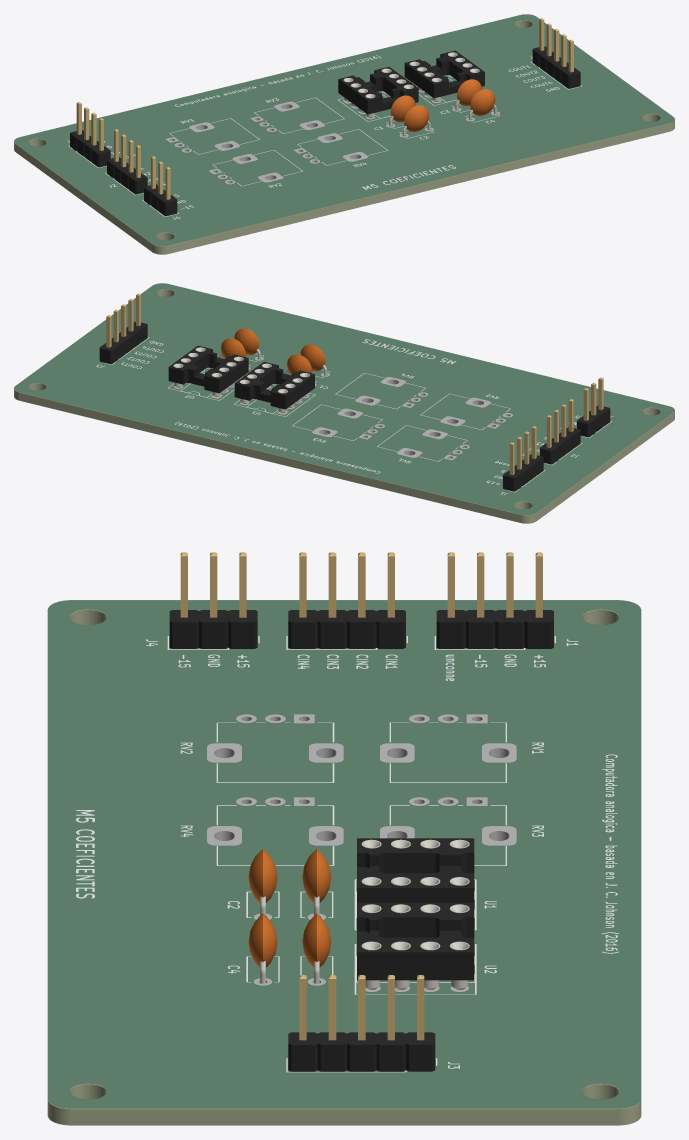
The model's file is placa.glb.
3 renders of one model, top to bottom at view 1: azimuth 30°, elevation 25°; view 2: azimuth 150°, elevation 25°; view 3: azimuth 270°, elevation 25°, orthographic. The views are drawn at different scales.
Visible parts, largest first — view 1: =>[0:1:1:16], =>[0:1:1:14], =>[0:1:1:7] (×2), =>[0:1:1:11] (×2), =>[0:1:1:12], =>[0:1:1:9] (×4), =>[0:1:1:13], =>[0:1:1:5], =>[0:1:1:3], =>[0:1:1:15]; view 2: =>[0:1:1:16], =>[0:1:1:14], =>[0:1:1:7] (×2), =>[0:1:1:11] (×2), =>[0:1:1:12], =>[0:1:1:13], =>[0:1:1:5], =>[0:1:1:9] (×4), =>[0:1:1:3], =>[0:1:1:15]; view 3: =>[0:1:1:16], =>[0:1:1:14], =>[0:1:1:7] (×2), =>[0:1:1:11] (×2), =>[0:1:1:5], =>[0:1:1:12], =>[0:1:1:13], =>[0:1:1:9] (×4), =>[0:1:1:3].
Part boxes in pixels (box(x1,y1,x2,y2)): =>[0:1:1:16]: box(14, 15, 674, 254); =>[0:1:1:14]: box(14, 14, 674, 246); =>[0:1:1:7] (×2): box(338, 50, 484, 118); =>[0:1:1:11] (×2): box(70, 102, 147, 194); =>[0:1:1:12]: box(165, 75, 499, 184); =>[0:1:1:9] (×4): box(389, 79, 496, 136); =>[0:1:1:13]: box(68, 55, 582, 219); =>[0:1:1:5]: box(532, 18, 580, 88); =>[0:1:1:3]: box(144, 156, 177, 215); =>[0:1:1:15]: box(16, 129, 673, 254); =>[0:1:1:16]: box(14, 284, 674, 523); =>[0:1:1:14]: box(14, 283, 674, 515); =>[0:1:1:7] (×2): box(168, 345, 314, 413); =>[0:1:1:11] (×2): box(503, 399, 580, 491); =>[0:1:1:12]: box(174, 357, 512, 460); =>[0:1:1:13]: box(96, 337, 613, 494); =>[0:1:1:5]: box(99, 293, 147, 363); =>[0:1:1:9] (×4): box(219, 328, 326, 375); =>[0:1:1:3]: box(577, 377, 610, 437); =>[0:1:1:15]: box(15, 398, 672, 523); =>[0:1:1:16]: box(47, 601, 641, 1124); =>[0:1:1:14]: box(47, 600, 641, 1108); =>[0:1:1:7] (×2): box(357, 838, 474, 989); =>[0:1:1:11] (×2): box(288, 552, 553, 648); =>[0:1:1:5]: box(288, 975, 435, 1071); =>[0:1:1:12]: box(207, 714, 516, 991); =>[0:1:1:13]: box(76, 636, 618, 1072); =>[0:1:1:9] (×4): box(248, 849, 331, 983); =>[0:1:1:3]: box(169, 552, 257, 648).
Bounding box in the file's own units: 0.104 × 0.0123 × 0.0513.
